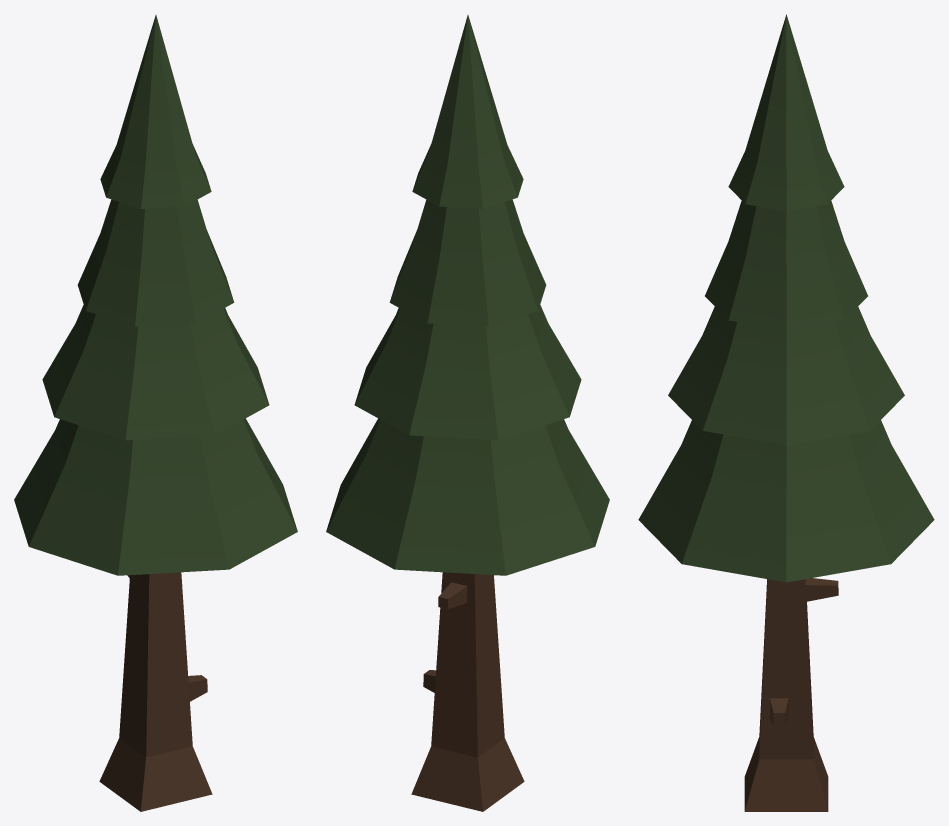
Rendered from tree_pine_default_a.glb.
3 renders of one model, left to right at view 1: azimuth 30°, elevation 25°; view 2: azimuth 150°, elevation 25°; view 3: azimuth 270°, elevation 25°, orthographic.
Visible parts, largest first — view 1: tree_pineDefaultA; view 2: tree_pineDefaultA; view 3: tree_pineDefaultA.
Boxes of the visible parts, left/top/right/bottom form: tree_pineDefaultA: left=14, top=15, right=297, bottom=811; tree_pineDefaultA: left=326, top=15, right=609, bottom=811; tree_pineDefaultA: left=638, top=14, right=934, bottom=811.
Size of the model in its own units: 0.532 by 1.55 by 0.532.
